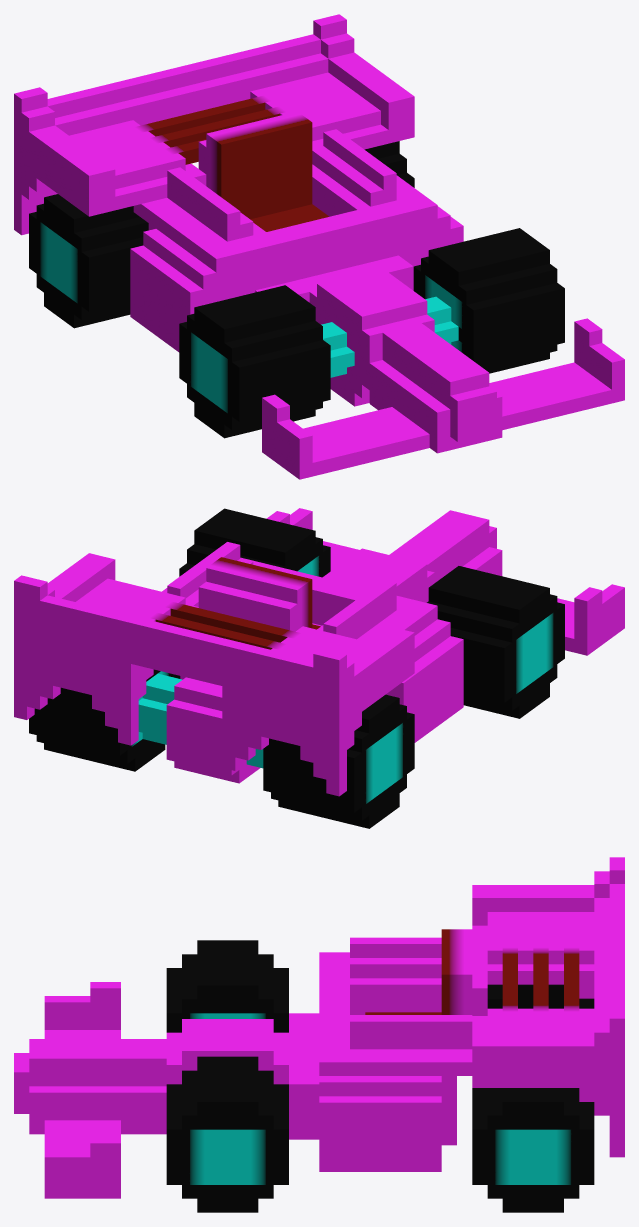
Rendered from Car_33.fbx.
3 views of the same model, one above another, from view 1: azimuth 30°, elevation 25°; view 2: azimuth 150°, elevation 25°; view 3: azimuth 270°, elevation 25° (orthographic).
Parts seen in each view (by area): view 1: Car_33; view 2: Car_33; view 3: Car_33.
Part boxes in pixels (x1,y1,x2,y2): Car_33: (14,14,624,479); Car_33: (14,508,624,828); Car_33: (14,857,624,1212).
Bounding box in the file's own units: 25 × 14 × 40.
1 material, 1 textured.
